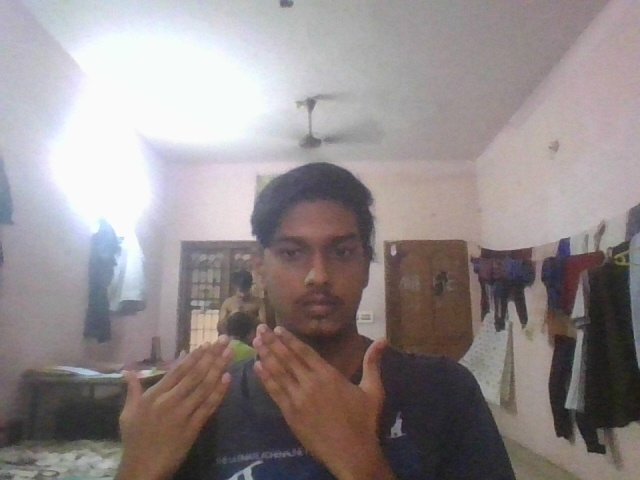thankyou: (115, 321, 393, 465)
